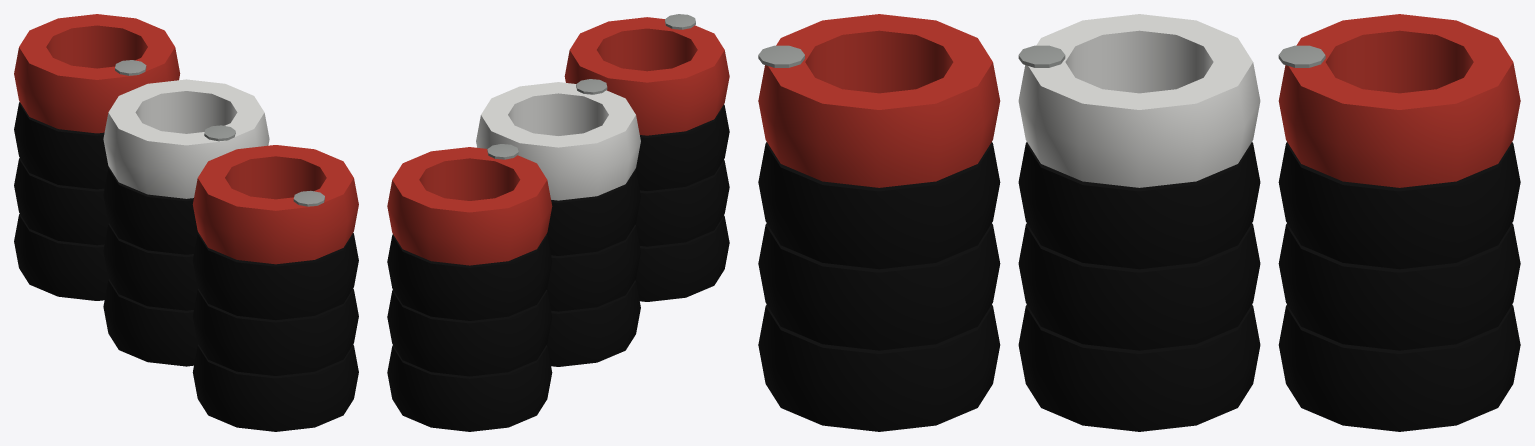
The model's file is sport.circuit.tyre_wall.glb.
3 views of the same model, side by side, from view 1: azimuth 30°, elevation 25°; view 2: azimuth 150°, elevation 25°; view 3: azimuth 270°, elevation 25° (orthographic). The views are drawn at different scales.
Parts seen in each view (by area): view 1: main__rubber, main__paint_b32, main__paint_ddd, main__steel_999; view 2: main__rubber, main__paint_b32, main__paint_ddd, main__steel_999; view 3: main__rubber, main__paint_b32, main__paint_ddd, main__steel_999.
Part boxes in pixels (x1,y1,x2,y2): main__rubber: (14, 102, 358, 431); main__paint_b32: (14, 14, 358, 264); main__paint_ddd: (103, 79, 269, 198); main__steel_999: (115, 60, 324, 206); main__rubber: (387, 104, 729, 431); main__paint_b32: (387, 17, 729, 265); main__paint_ddd: (476, 82, 640, 200); main__steel_999: (487, 14, 695, 159); main__rubber: (758, 142, 1520, 431); main__paint_b32: (758, 14, 1520, 187); main__paint_ddd: (1018, 14, 1260, 187); main__steel_999: (758, 45, 1325, 67).
Size of the model in its own units: 0.62 by 0.935 by 1.95.
